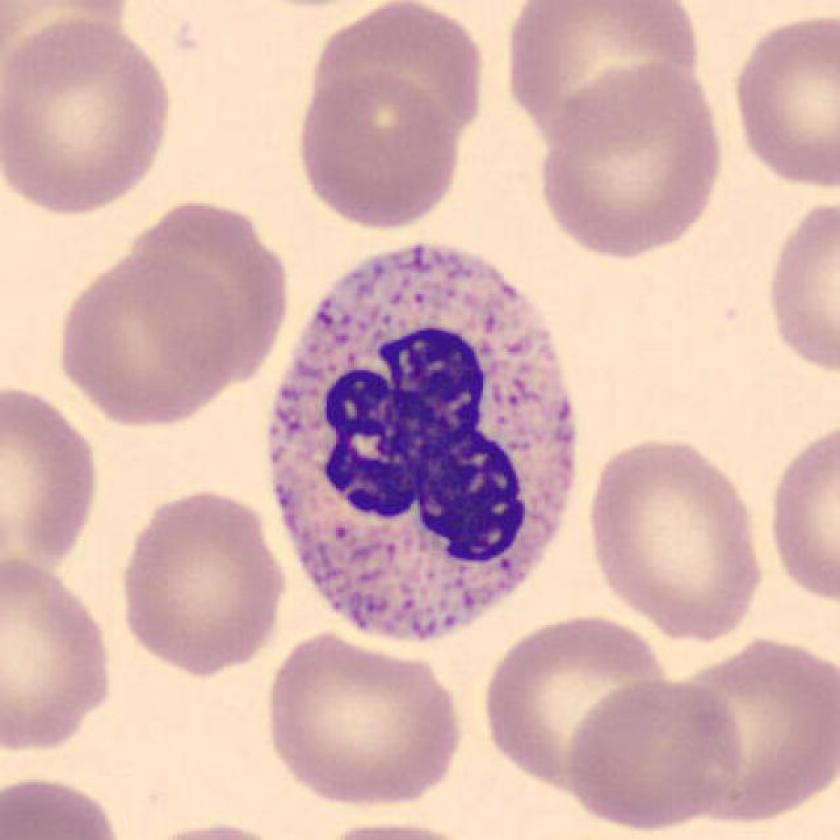neutrophil: (268, 250, 574, 635)
